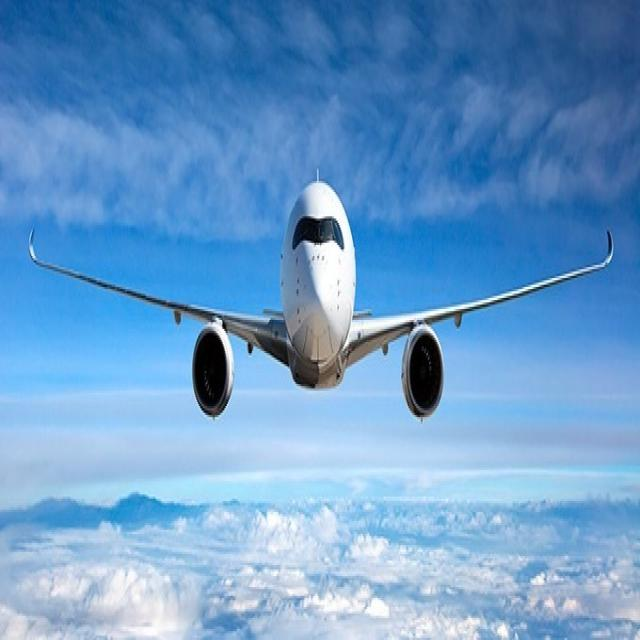aircraft: (7, 150, 634, 477)
